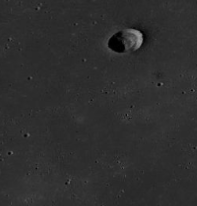crater: (87, 6, 166, 74)
